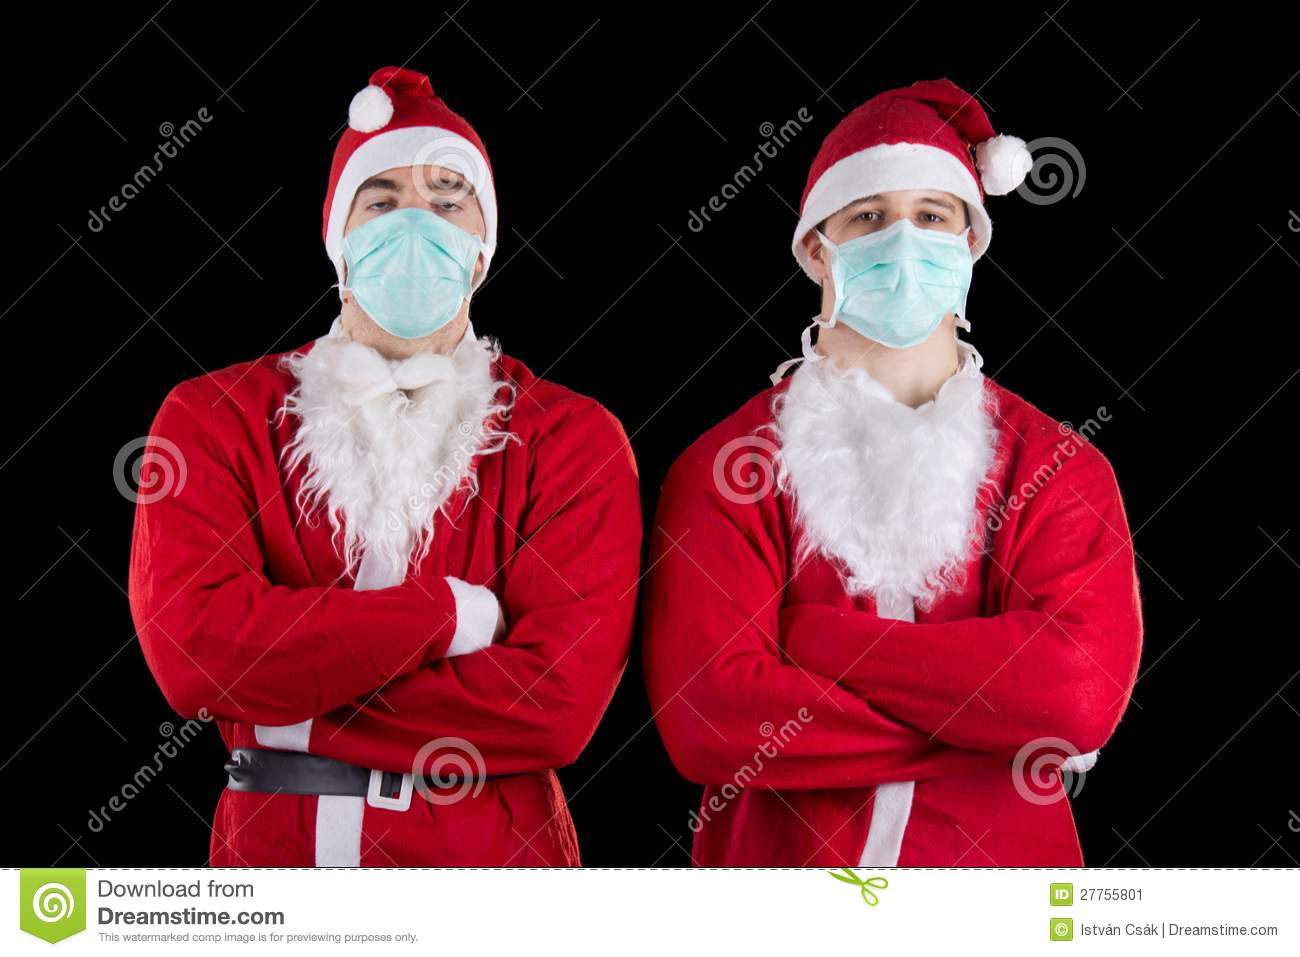mask: (826, 217, 975, 352), (339, 209, 473, 345)
